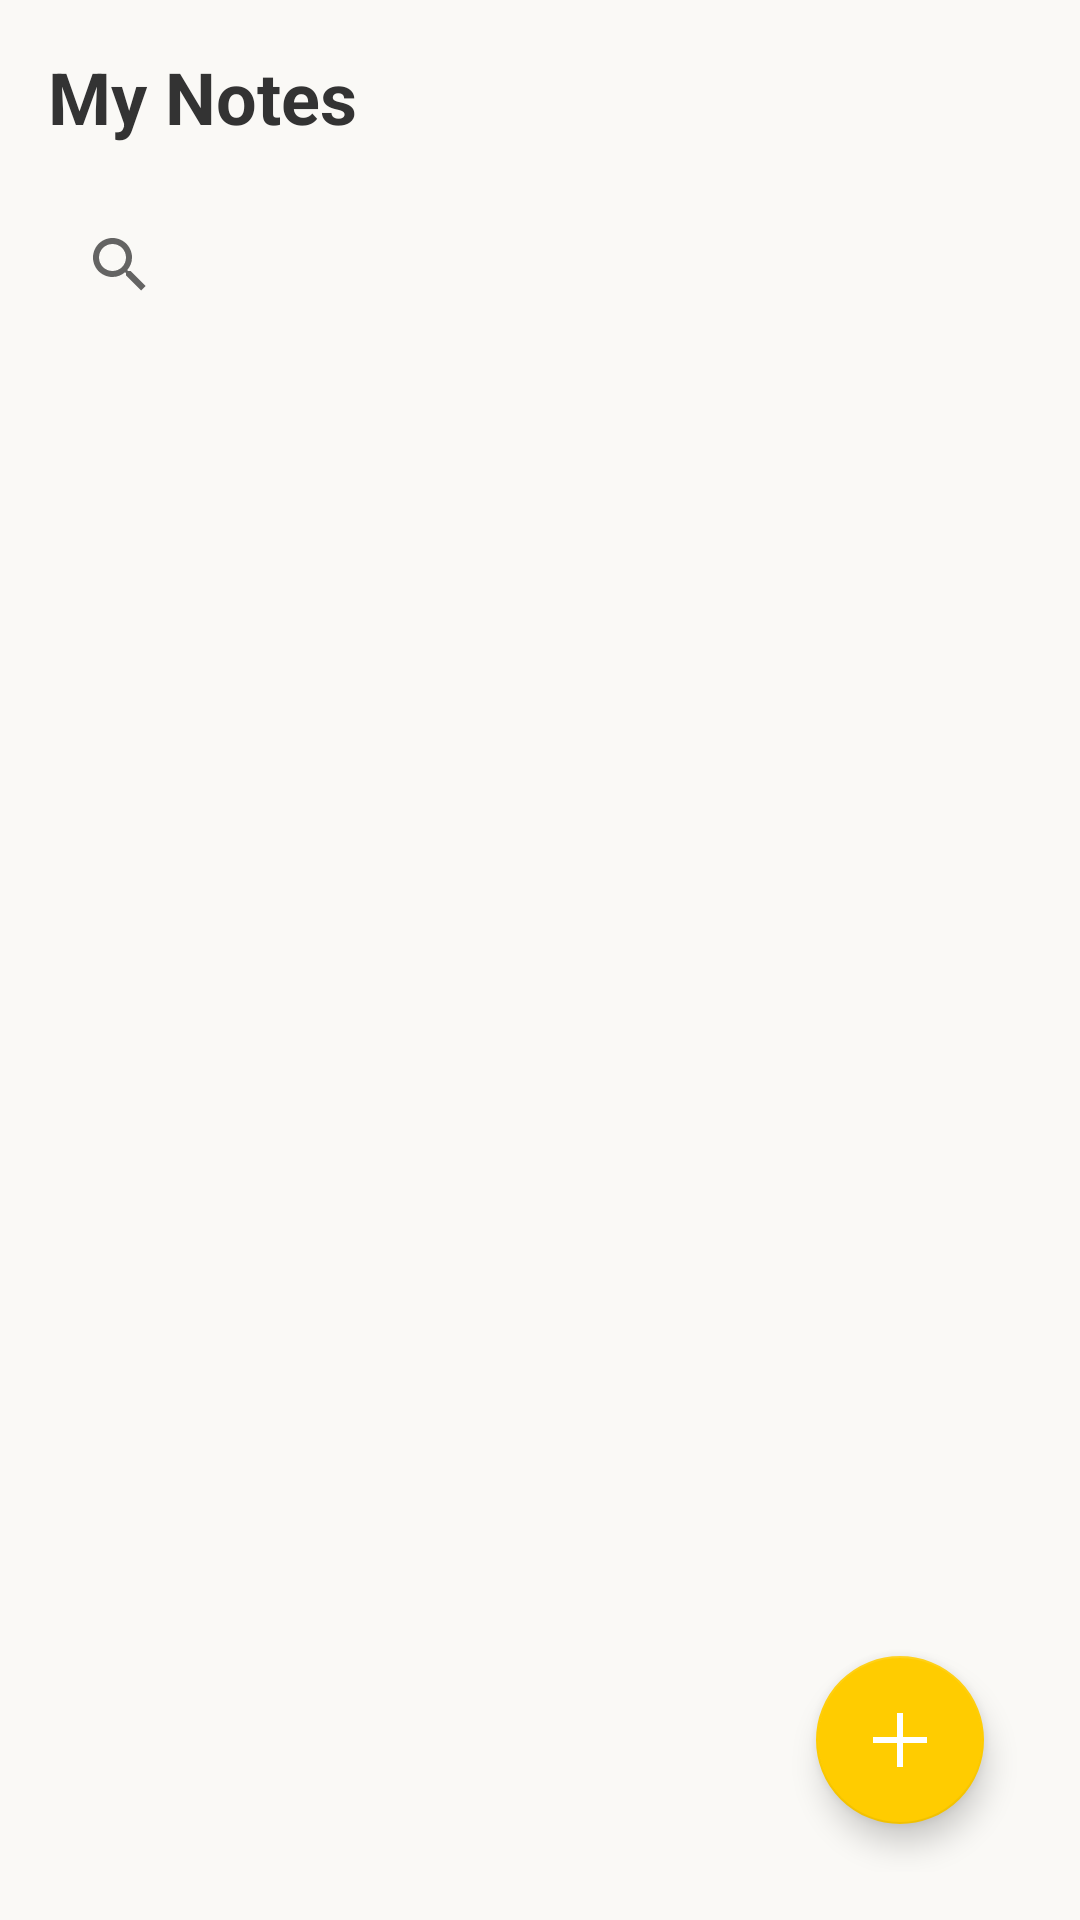

Named icons in this screenshot (1080w x 1920h) and their centers, (x,y):
Add Note: (900,1740)
